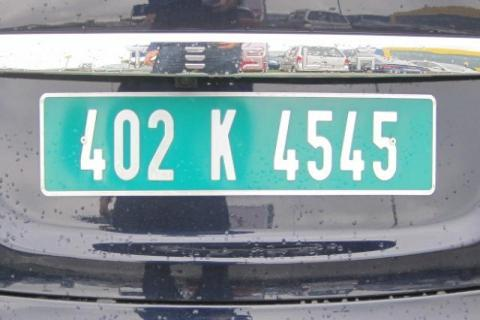LicensePlate: (31, 77, 439, 217)
